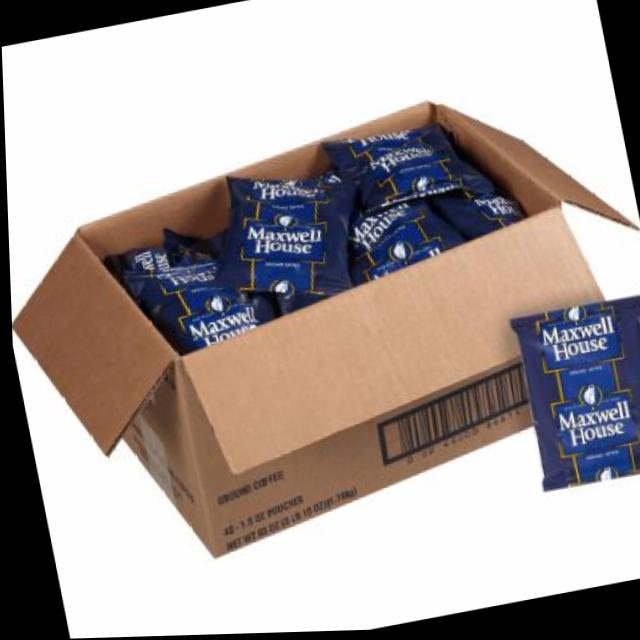box: (1, 30, 640, 595)
